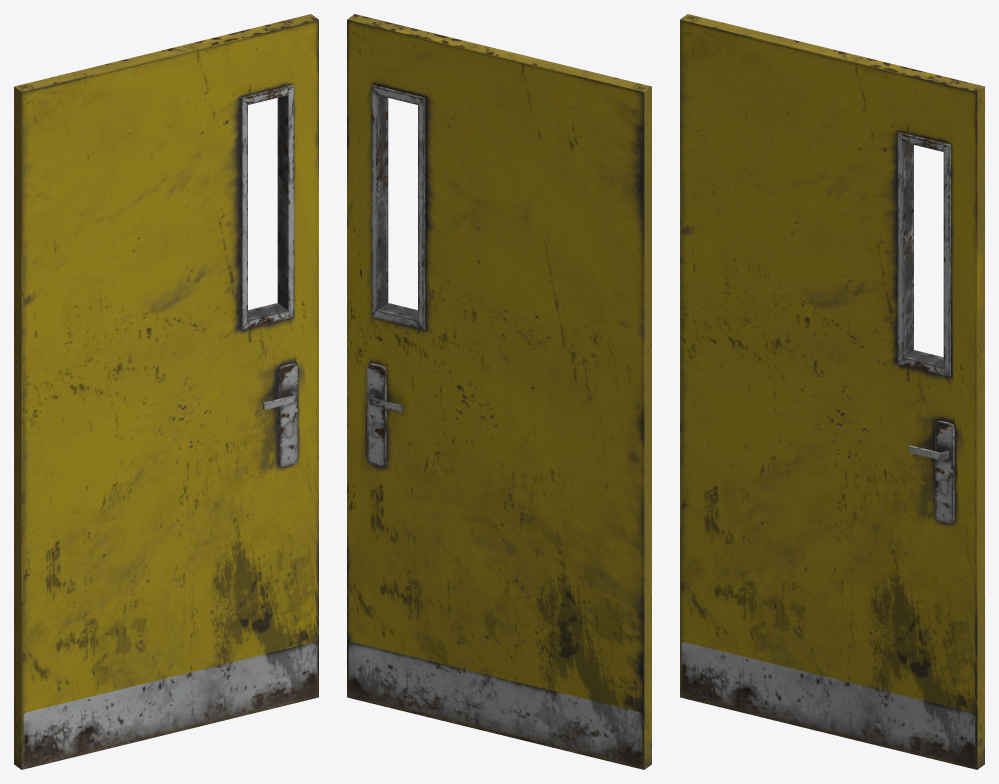
File: SM_Door_A_Yellow.glb
The picture shows the model from 3 angles, left to right: view 1: azimuth 30°, elevation 25°; view 2: azimuth 150°, elevation 25°; view 3: azimuth 330°, elevation 25°; orthographic projection.
Parts seen in each view (by area): view 1: SM_Door_A_Yellow; view 2: SM_Door_A_Yellow; view 3: SM_Door_A_Yellow.
Part boxes in pixels (<box>): SM_Door_A_Yellow: <box>14,14,318,769</box>; SM_Door_A_Yellow: <box>347,14,651,769</box>; SM_Door_A_Yellow: <box>680,14,984,769</box>.
Bounding box in the file's own units: 1.12 × 2.44 × 0.1401.
2 materials, 2 textured.
